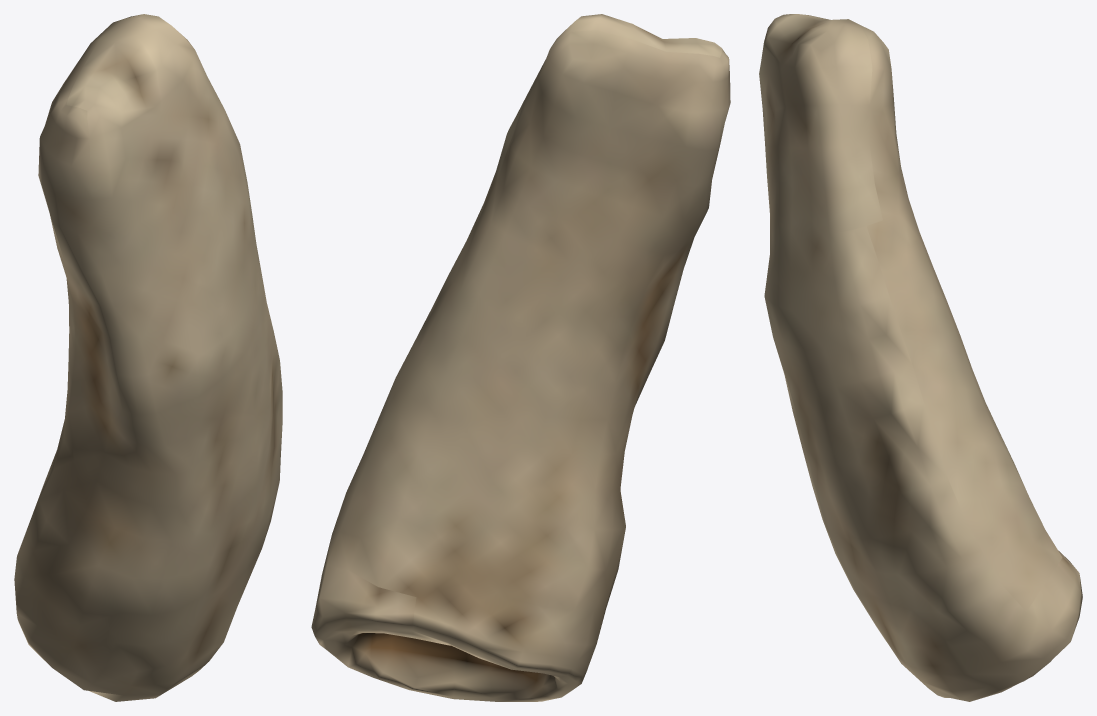
File: Upper_Incisor5.glb
3 renders of one model, left to right at view 1: azimuth 30°, elevation 25°; view 2: azimuth 150°, elevation 25°; view 3: azimuth 270°, elevation 25°, orthographic. The views are drawn at different scales.
Visible parts, largest first — view 1: Upper_Incisor5.glb; view 2: Upper_Incisor5.glb; view 3: Upper_Incisor5.glb.
Part boxes in pixels (left/top/right/bottom): Upper_Incisor5.glb: left=14, top=14, right=282, bottom=701; Upper_Incisor5.glb: left=311, top=14, right=730, bottom=701; Upper_Incisor5.glb: left=759, top=14, right=1082, bottom=701.
Size of the model in its own units: 0.0152 by 0.0329 by 0.0153.
Materials: 1 (1 with a texture image).
